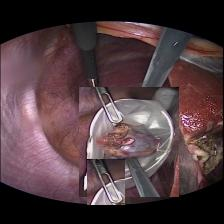Grasper: (88, 158, 125, 204), (88, 77, 102, 106)
Specimen Bag: (80, 86, 180, 196)
